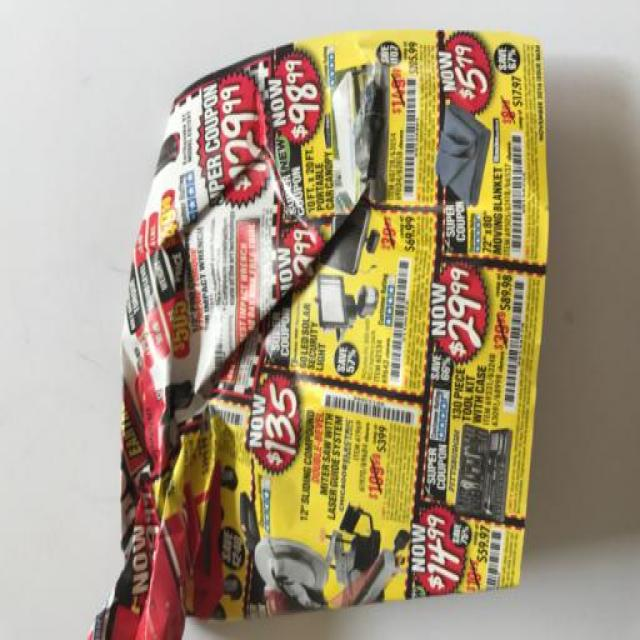paper: (73, 27, 573, 626)
